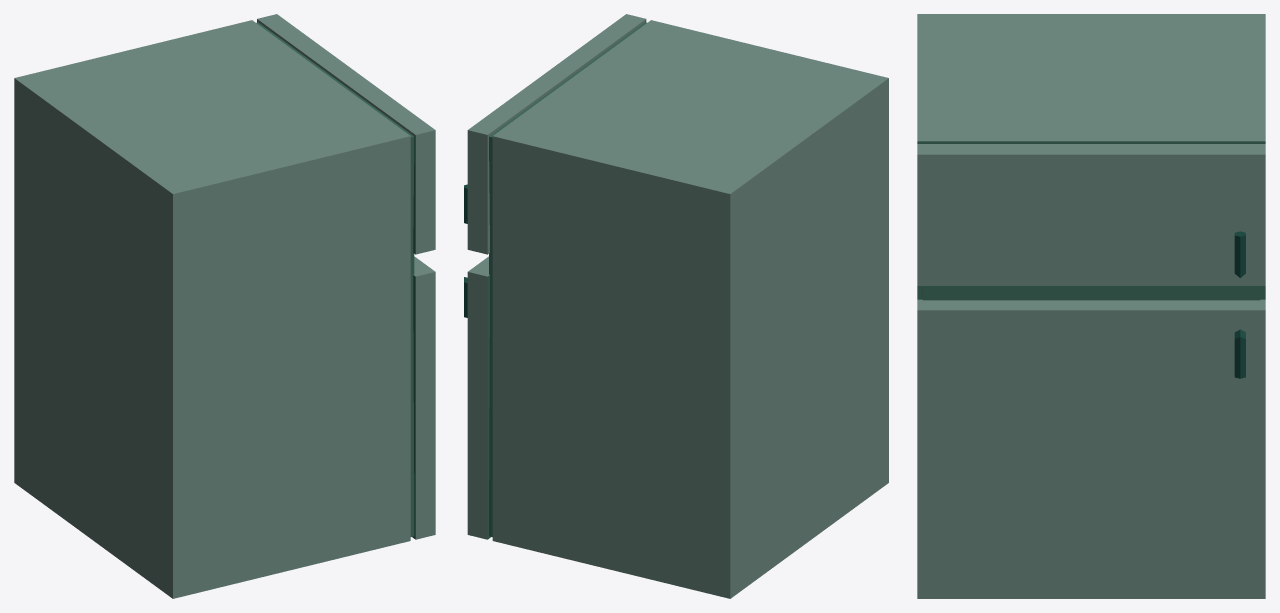
The model's file is fridge.fbx.
The picture shows the model from 3 angles, left to right: view 1: azimuth 30°, elevation 25°; view 2: azimuth 150°, elevation 25°; view 3: azimuth 270°, elevation 25°; orthographic projection. The views are drawn at different scales.
Visible parts, largest first — view 1: fridge_geo; view 2: fridge_geo; view 3: fridge_geo, handle_02_geo, handle_01_geo.
Boxes of the visible parts, x1,y1,x2,y2 form: fridge_geo: (14,14,435,598); fridge_geo: (467,14,888,598); fridge_geo: (917,14,1265,598); handle_02_geo: (1234,329,1245,378); handle_01_geo: (1234,231,1245,277).
Size of the model in its own units: 199 by 278 by 197.
